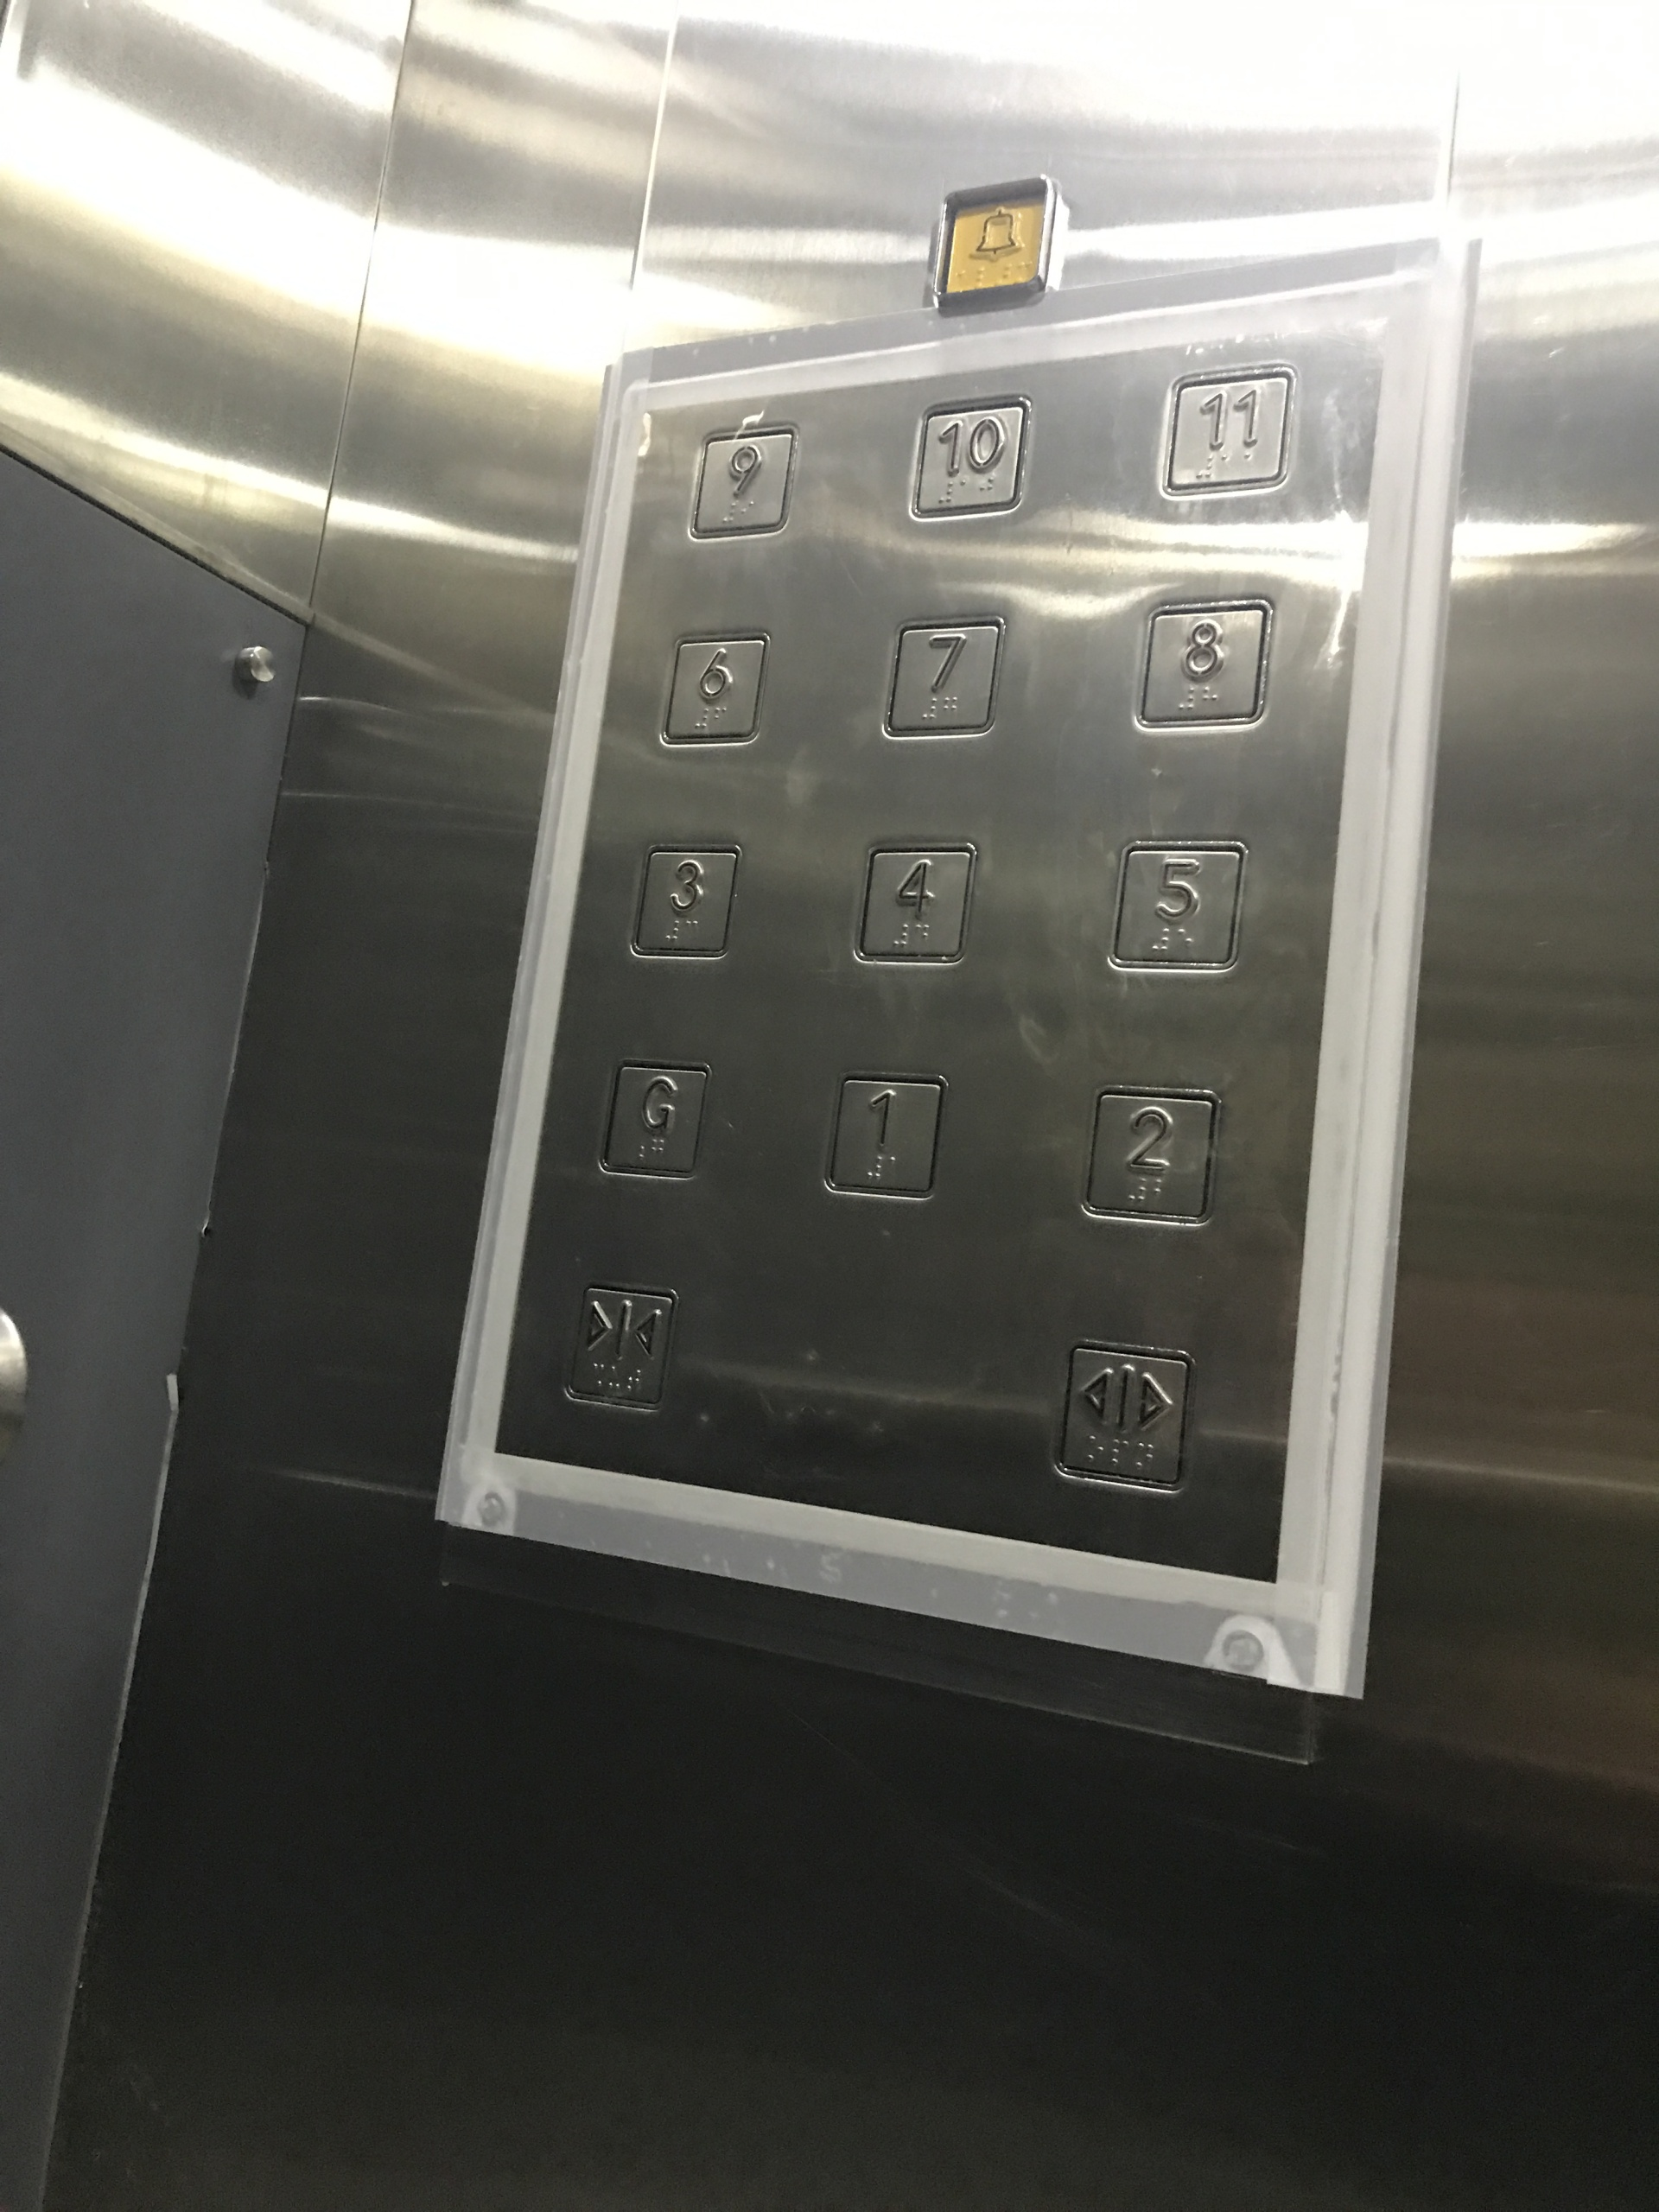1: (817, 1062, 951, 1202)
10: (904, 390, 1037, 523)
11: (1157, 355, 1298, 500)
2: (1079, 1080, 1222, 1224)
3: (622, 838, 746, 961)
4: (847, 836, 979, 968)
5: (1103, 834, 1246, 977)
6: (652, 629, 774, 751)
7: (877, 613, 1007, 744)
8: (1126, 592, 1277, 733)
9: (681, 418, 802, 543)
G: (594, 1055, 718, 1188)
alarm: (932, 174, 1061, 314)
close: (558, 1275, 680, 1418)
open: (1051, 1332, 1195, 1498)
